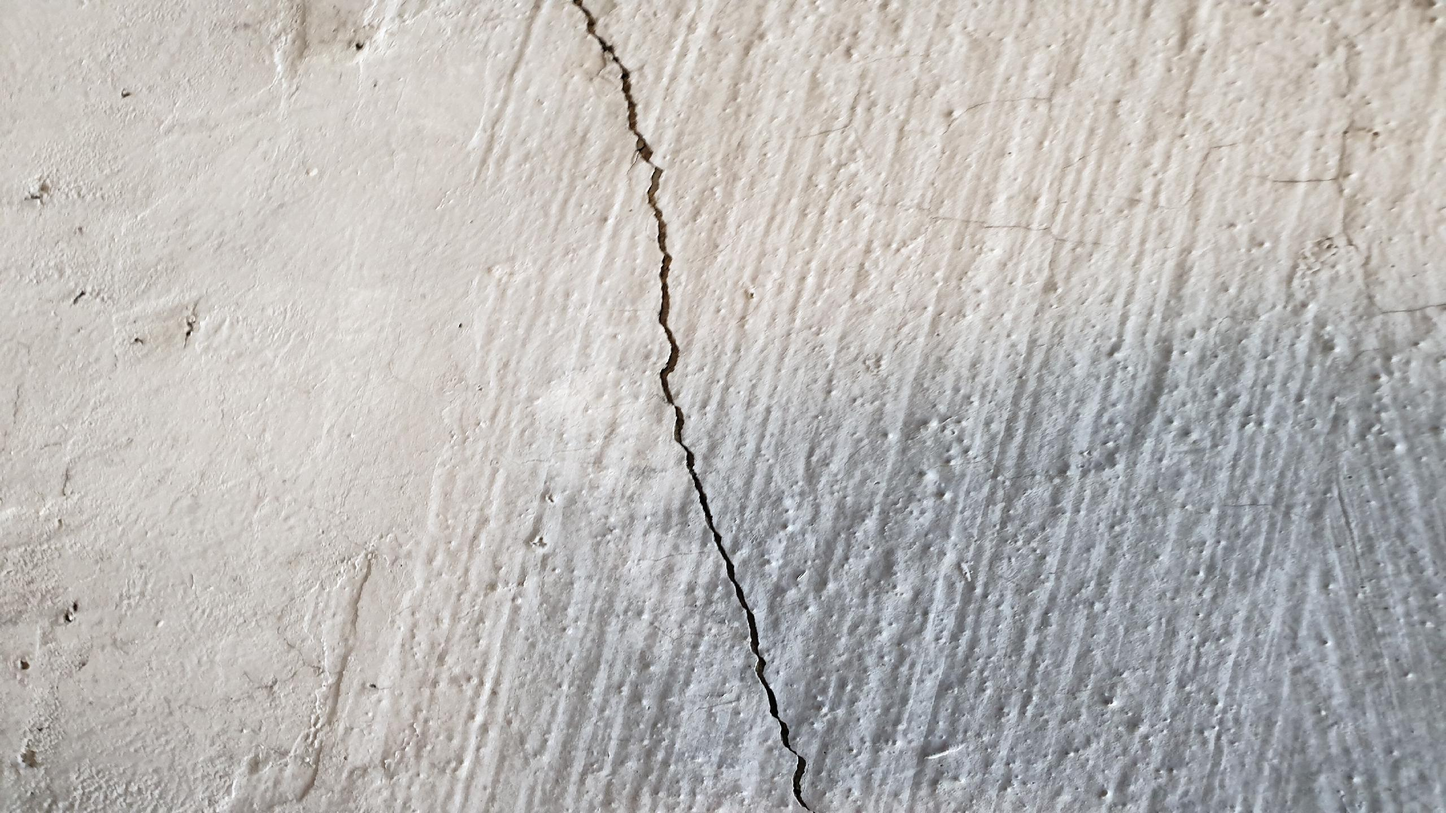crack: (571, 0, 809, 810)
